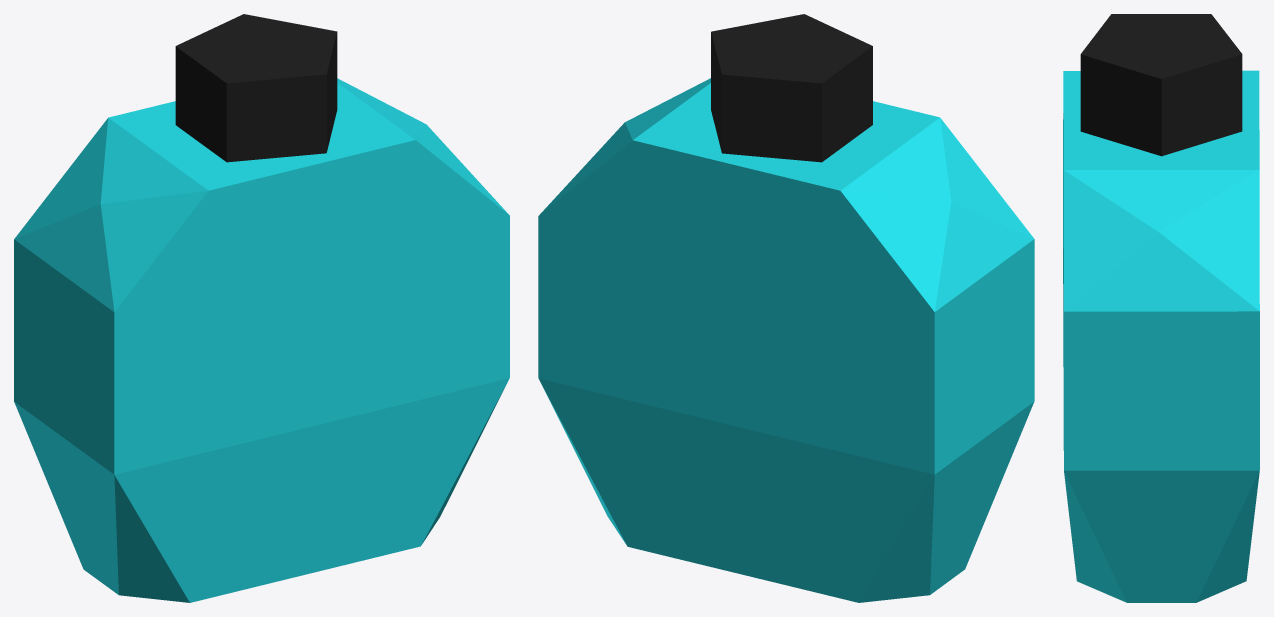
File: prop_067.glb
The picture shows the model from 3 angles, left to right: view 1: azimuth 30°, elevation 25°; view 2: azimuth 150°, elevation 25°; view 3: azimuth 270°, elevation 25°; orthographic projection. The views are drawn at different scales.
Visible parts, largest first — view 1: prop_067; view 2: prop_067; view 3: prop_067.
Part boxes in pixels (x1,y1,x2,y2): prop_067: (14, 14, 509, 602); prop_067: (538, 14, 1034, 602); prop_067: (1063, 14, 1259, 602).
Size of the model in its own units: 0.1593 by 0.1895 by 0.0699.
Materials: 1 (1 with a texture image).
